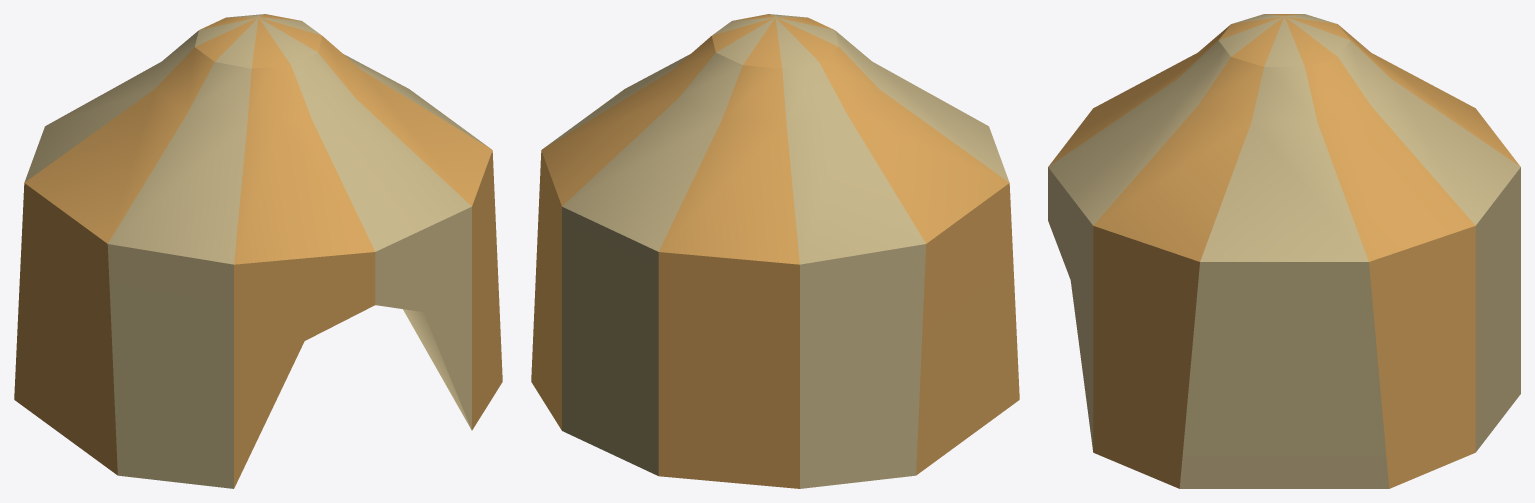
The model's file is Tent_D.fbx.
3 renders of one model, left to right at view 1: azimuth 30°, elevation 25°; view 2: azimuth 150°, elevation 25°; view 3: azimuth 270°, elevation 25°, orthographic.
Parts seen in each view (by area): view 1: Tent_D; view 2: Tent_D; view 3: Tent_D.
Boxes of the visible parts, x1,y1,x2,y2 form: Tent_D: (14, 14, 502, 488); Tent_D: (531, 14, 1019, 488); Tent_D: (1048, 14, 1520, 488).
Size of the model in its own units: 244 by 226 by 257.
